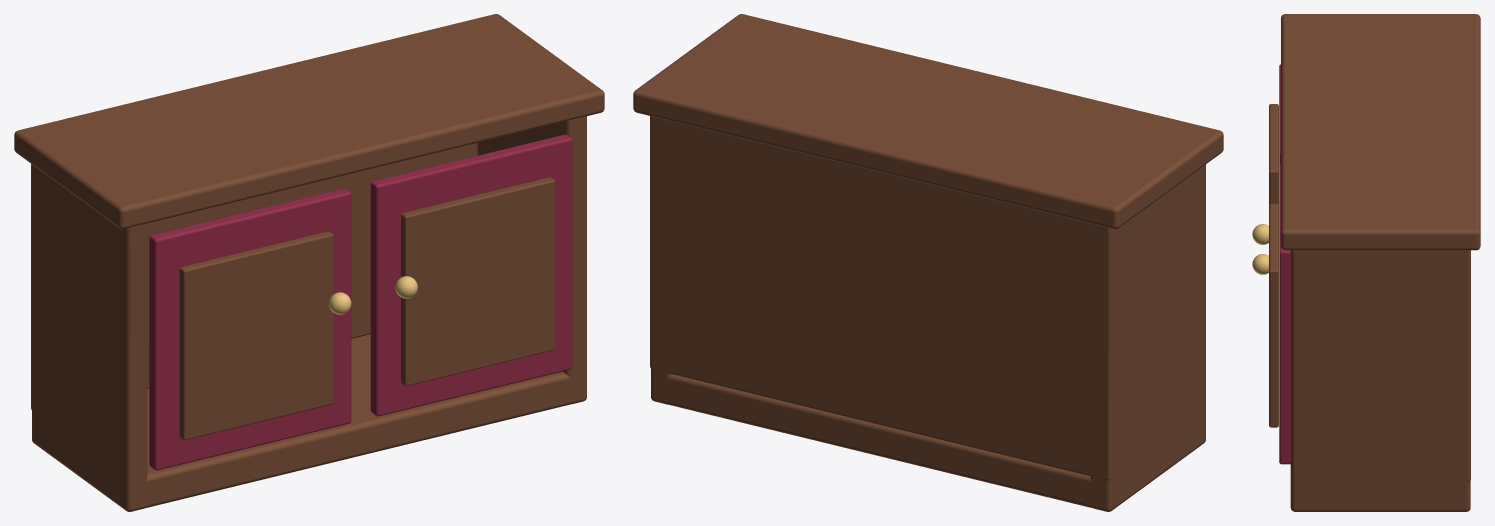
File: prlSideboard.glb
3 views of the same model, side by side, from view 1: azimuth 30°, elevation 25°; view 2: azimuth 150°, elevation 25°; view 3: azimuth 270°, elevation 25° (orthographic). The views are drawn at different scales.
Parts seen in each view (by area): view 1: service-sideboard; view 2: service-sideboard; view 3: service-sideboard.
Boxes of the visible parts, box(x1,y1,x2,y2) form: service-sideboard: box(14, 14, 604, 511); service-sideboard: box(633, 14, 1223, 511); service-sideboard: box(1252, 14, 1480, 511).
Bounding box in the file's own units: 1.58 × 0.9701 × 0.697.
